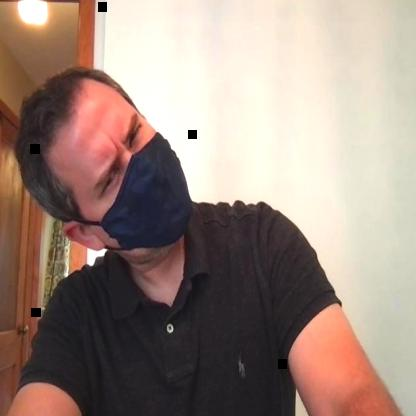mask: (15, 67, 192, 256)
